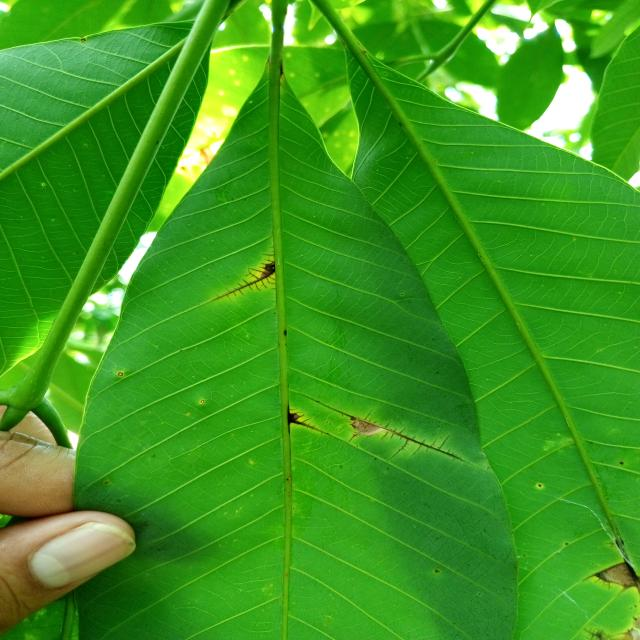Colletotrichum: (580, 562, 622, 590), (585, 628, 604, 640), (118, 372, 123, 377), (620, 461, 624, 465), (201, 400, 204, 404), (538, 484, 541, 487)
Corynespora: (212, 246, 277, 301), (380, 421, 462, 461), (287, 404, 322, 435), (349, 433, 358, 442)
Leaf-Blight: (604, 565, 634, 586), (351, 418, 384, 436), (620, 618, 640, 640)
